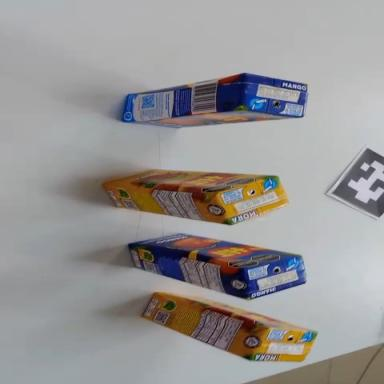HIT-MANGO: (123, 224, 310, 309), (120, 68, 309, 131)
HIT-MORA: (138, 282, 316, 376), (101, 167, 289, 227)
cara_F: (127, 222, 300, 281), (156, 284, 317, 343), (103, 165, 275, 199), (130, 105, 298, 132)
